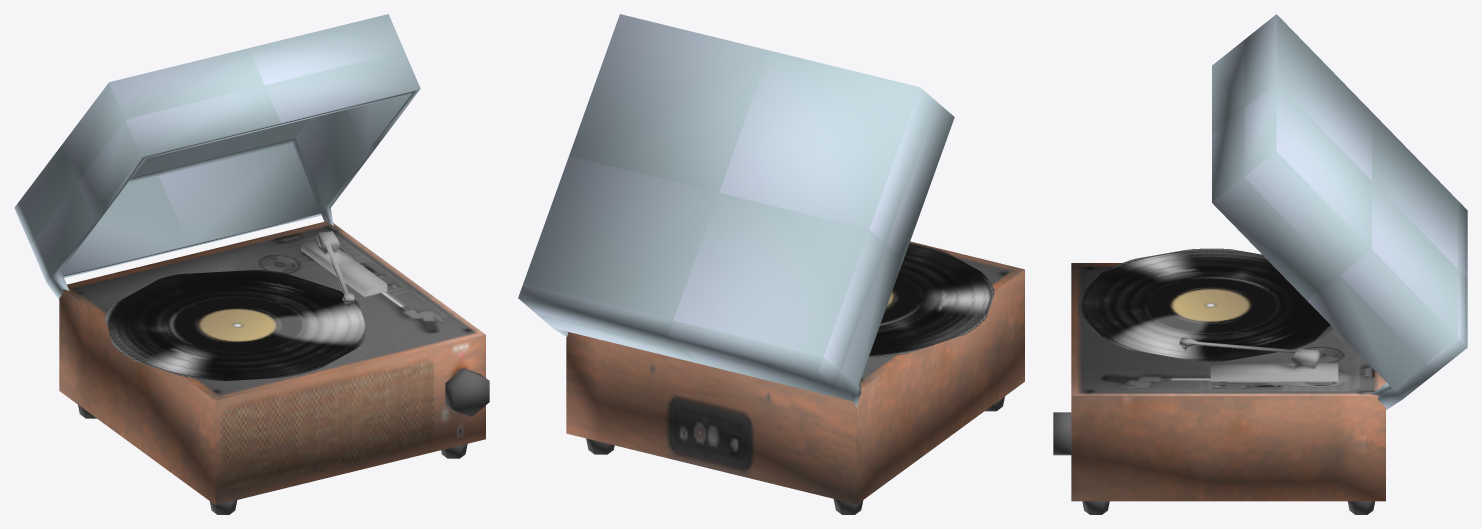
Rendered from record_player.fbx.
The picture shows the model from 3 angles, left to right: view 1: azimuth 30°, elevation 25°; view 2: azimuth 150°, elevation 25°; view 3: azimuth 270°, elevation 25°; orthographic projection. The views are drawn at different scales.
Parts seen in each view (by area): view 1: record_player; view 2: record_player; view 3: record_player.
Boxes of the visible parts, x1,y1,x2,y2 form: record_player: (14,14,489,514); record_player: (518,14,1024,514); record_player: (1053,14,1467,514).
Bounding box in the file's own units: 52.6 × 60.71 × 61.37.
1 material, 1 textured.
